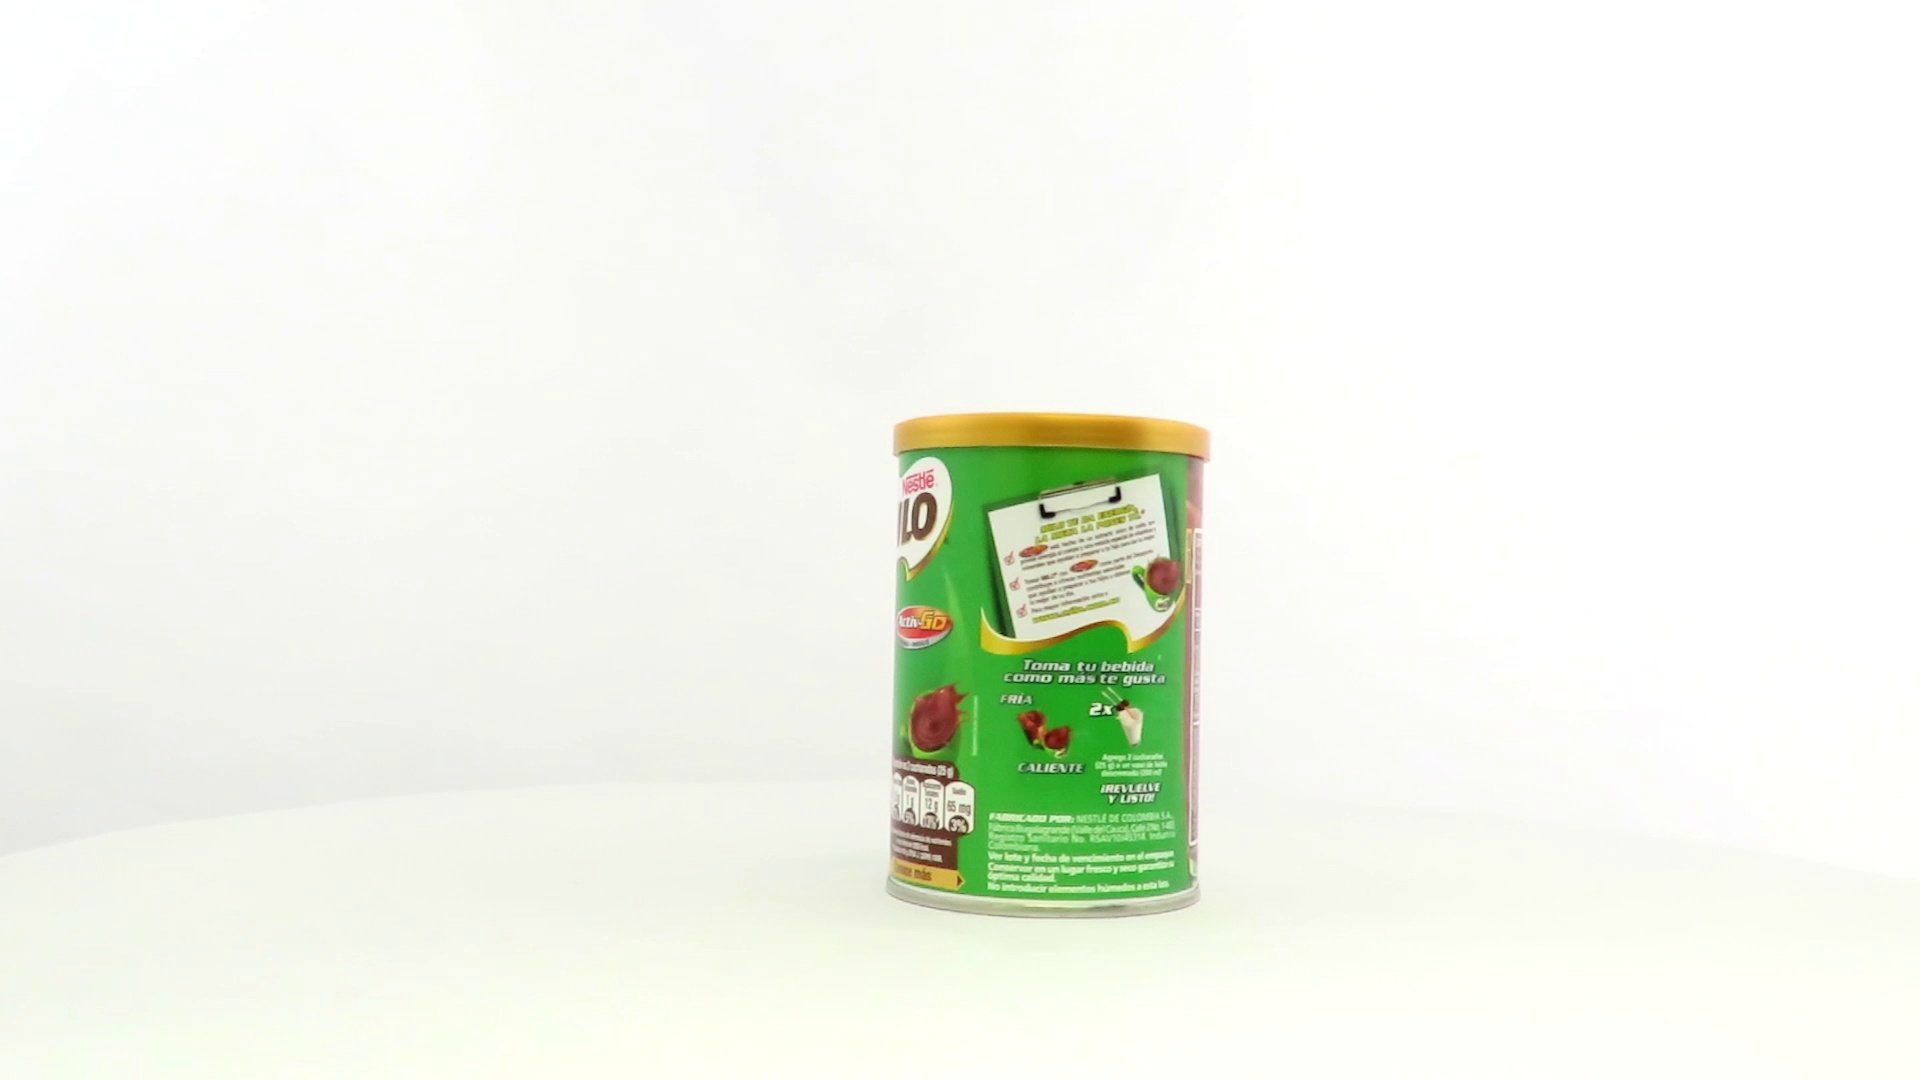COL0170203LAT20000: (880, 407, 1216, 924)
